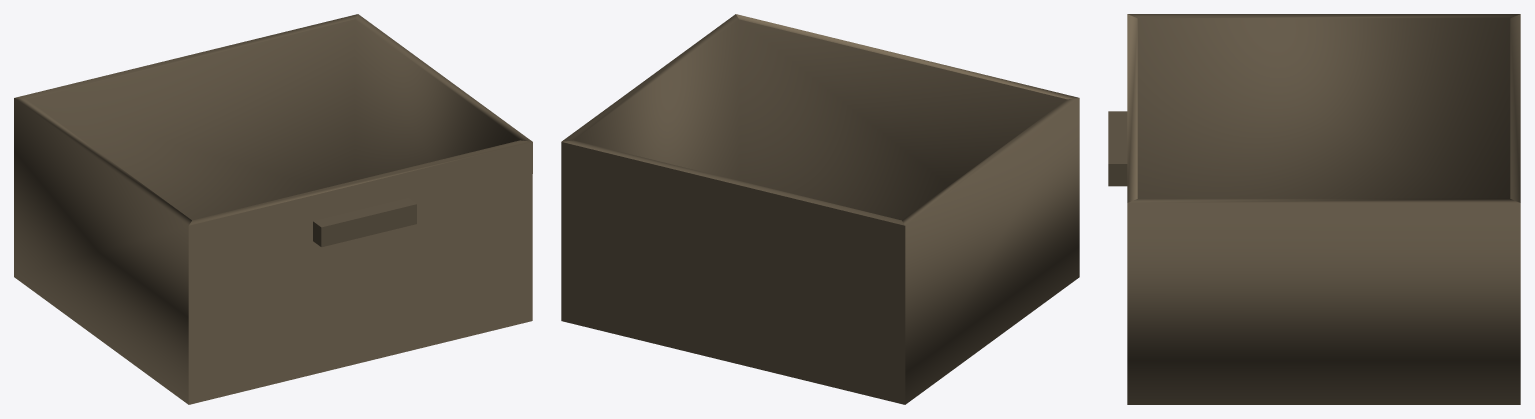
Rendered from Drawer_door.glb.
3 views of the same model, side by side, from view 1: azimuth 30°, elevation 25°; view 2: azimuth 150°, elevation 25°; view 3: azimuth 270°, elevation 25° (orthographic). The views are drawn at different scales.
Visible parts, largest first — view 1: Drawer_4.002; view 2: Drawer_4.002; view 3: Drawer_4.002.
Boxes of the visible parts, x1,y1,x2,y2 form: Drawer_4.002: (14,14,532,404); Drawer_4.002: (561,14,1079,404); Drawer_4.002: (1108,14,1520,404).
Size of the model in its own units: 1.23 by 0.6125 by 1.13.
